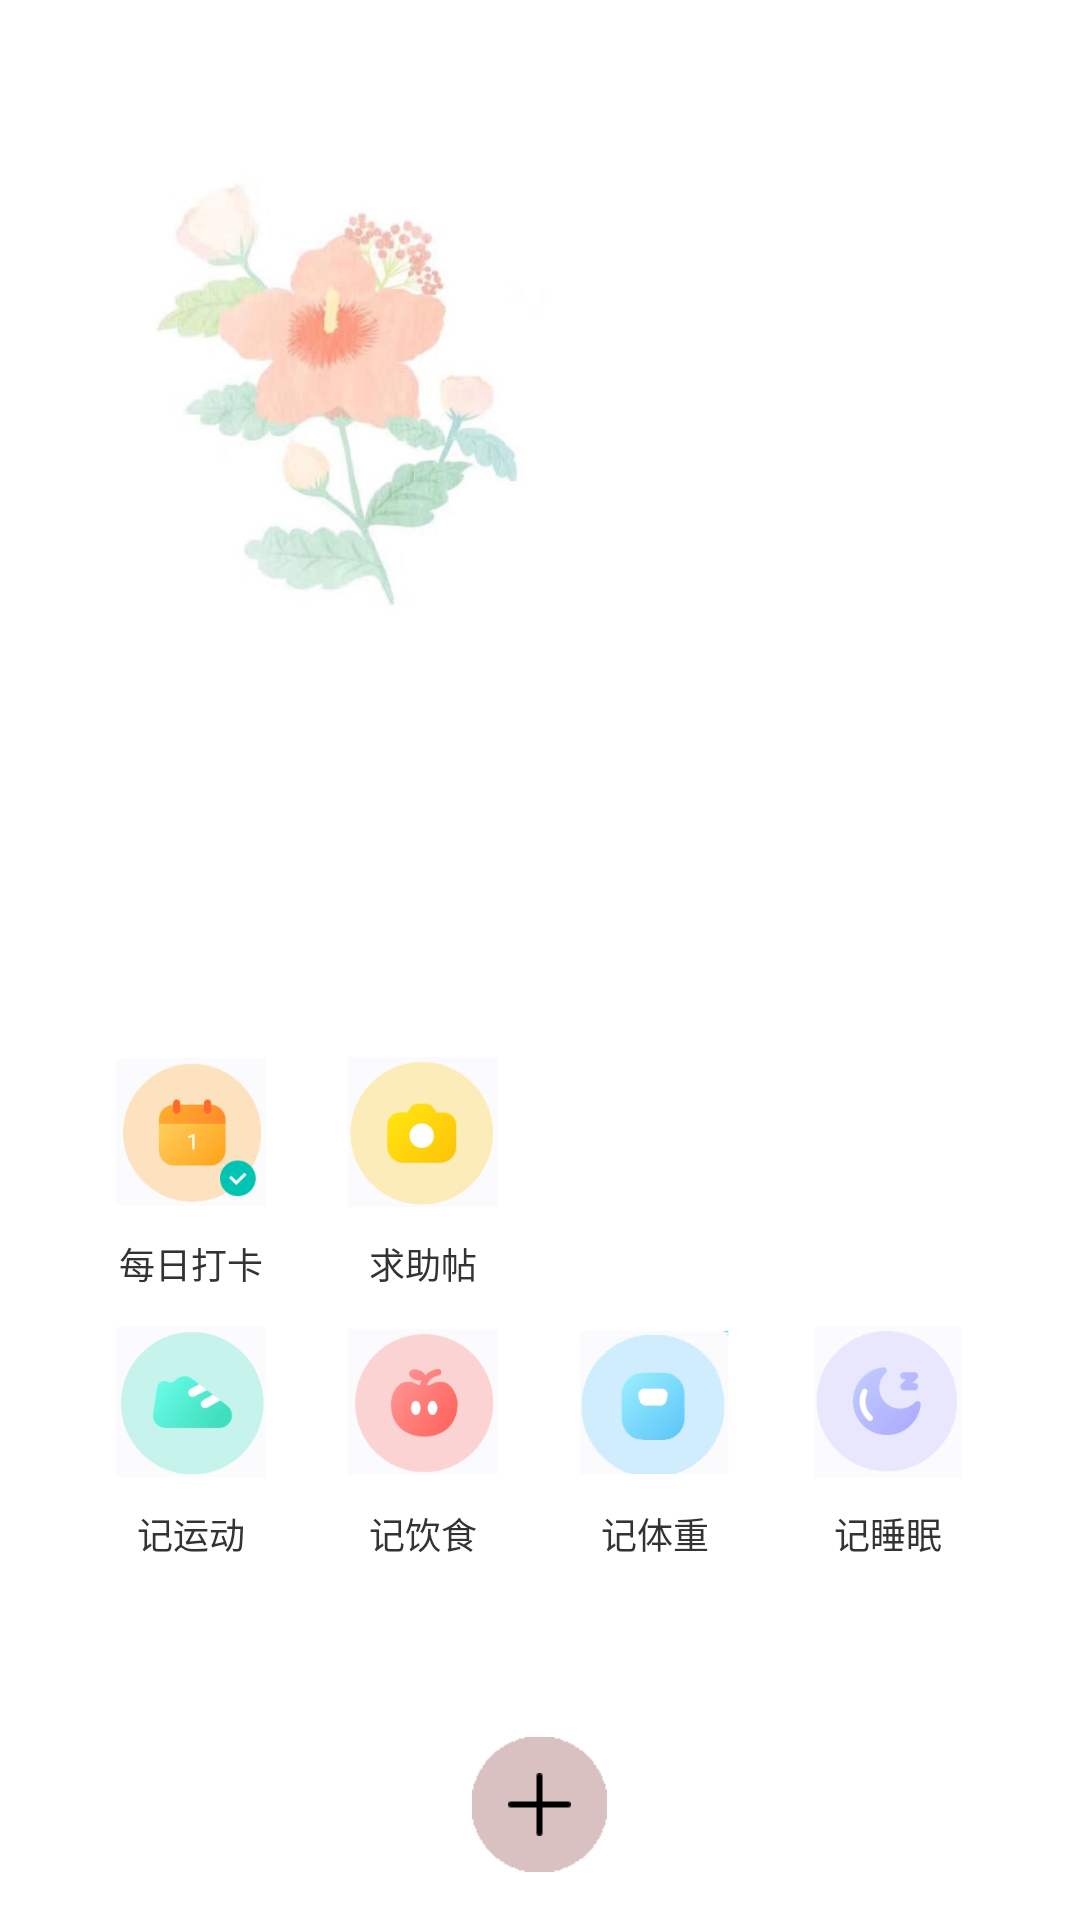

Named icons in this screenshot (1080px x 1920px) and their centers, (x,y):
sleep: (886,1401)
